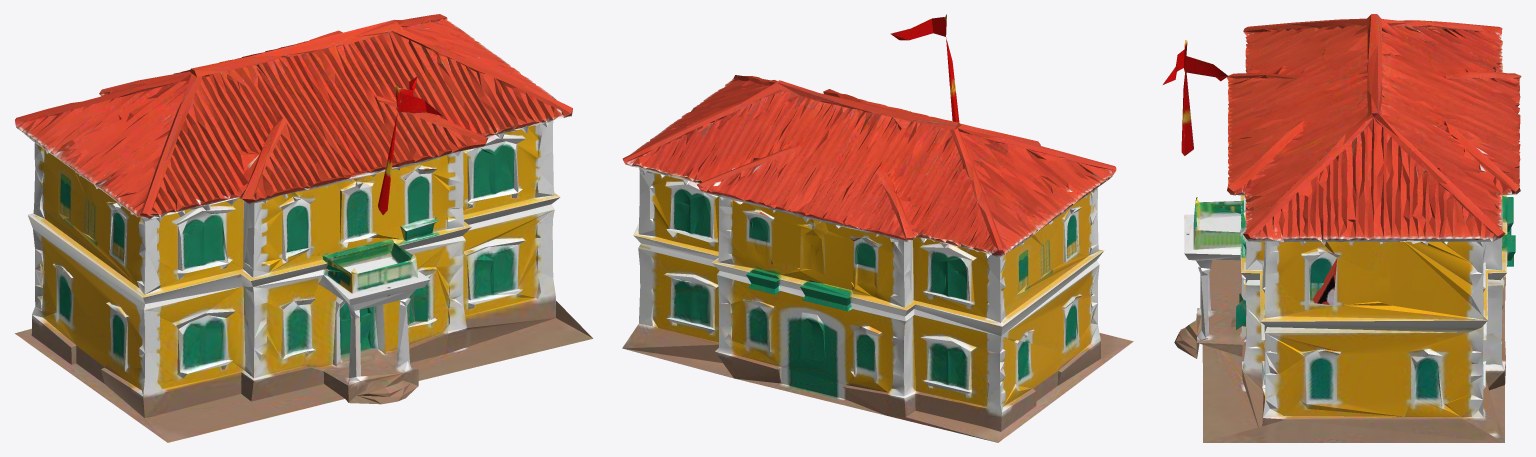
File: lm_dhall.glb
The picture shows the model from 3 angles, left to right: view 1: azimuth 30°, elevation 25°; view 2: azimuth 150°, elevation 25°; view 3: azimuth 270°, elevation 25°; orthographic projection. The views are drawn at different scales.
Parts seen in each view (by area): view 1: output_unwrapped; view 2: output_unwrapped; view 3: output_unwrapped.
Boxes of the visible parts, x1,y1,x2,y2 form: output_unwrapped: (15, 14, 592, 442); output_unwrapped: (622, 14, 1133, 442); output_unwrapped: (1163, 14, 1521, 442).
Size of the model in its own units: 1.9 by 1.31 by 1.39.
1 material, 1 textured.
